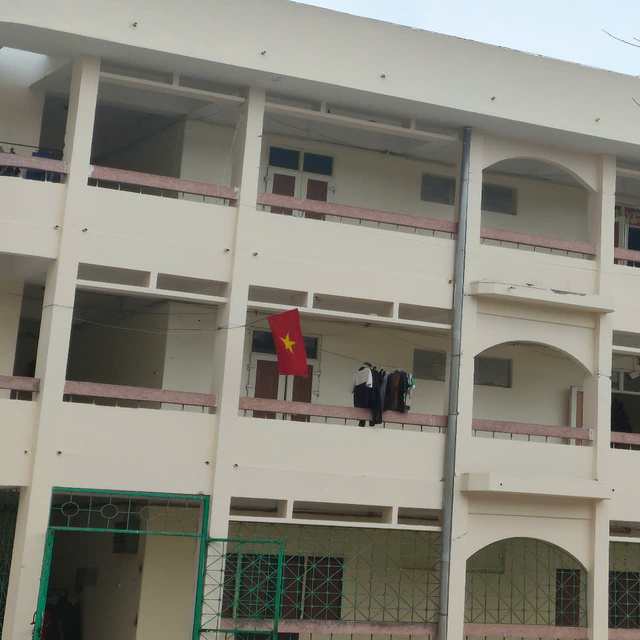laco: (259, 308, 326, 395)
